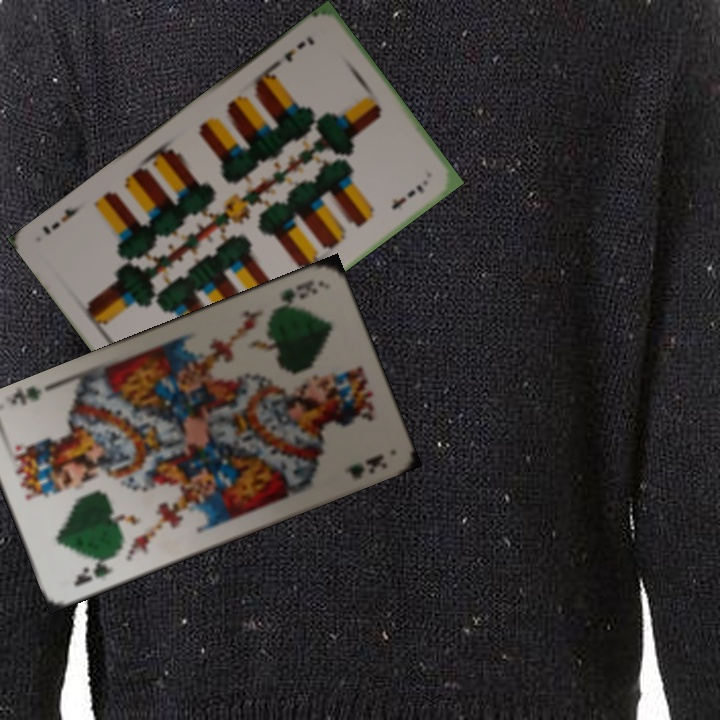E7: (280, 31, 317, 65)
GK: (69, 551, 117, 589), (277, 276, 321, 309)
